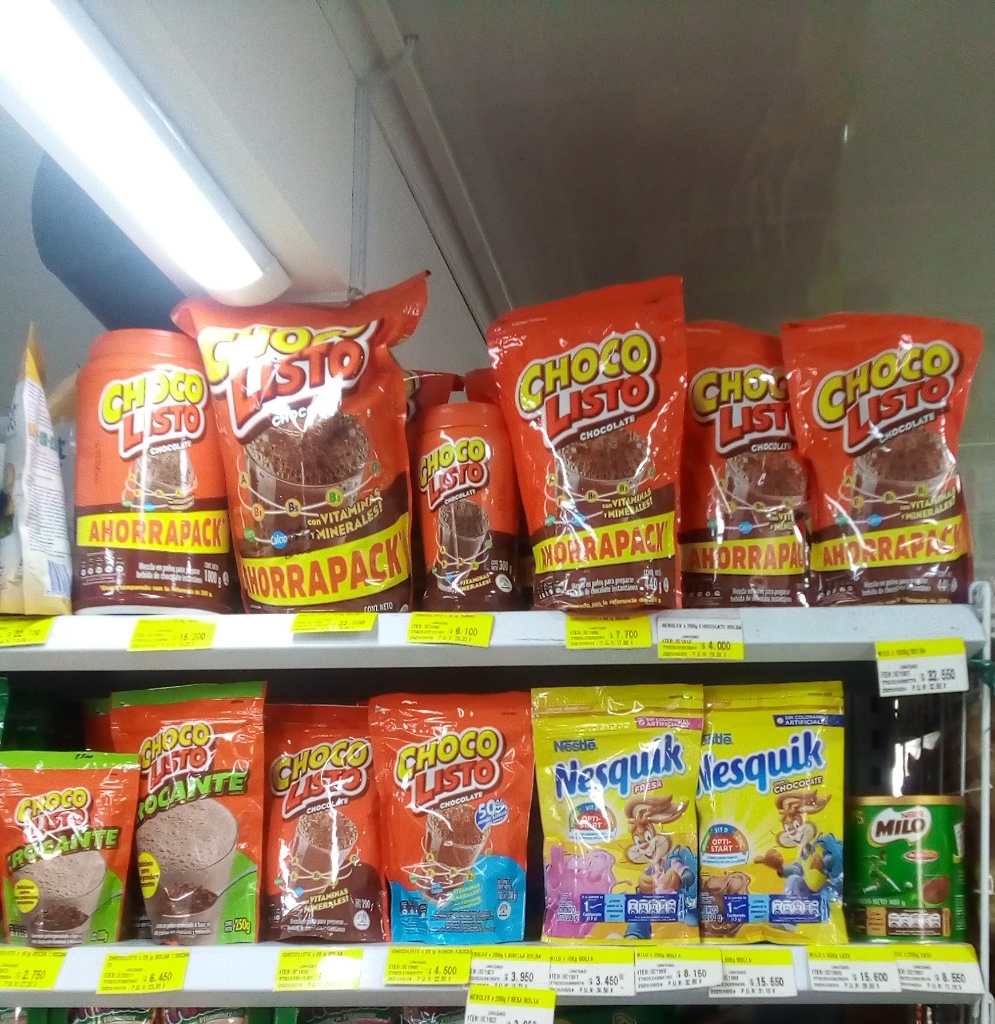COL0170102DYP10000: (0, 749, 142, 950)
COL0170102DYP25000: (109, 685, 269, 945)
COL0170103DYP1,500: (166, 267, 438, 611)
COL0170103DYP20000: (257, 700, 392, 944)
COL0170103DYP40000: (668, 308, 821, 609)
COL0170103DYP44000: (474, 265, 686, 612)
COL0170103TRR00100: (74, 322, 241, 591)
COL0170103TRR30000: (408, 398, 531, 611)
COL0170104DYP20000: (367, 693, 535, 946)
COL0170203LAT40000: (845, 795, 987, 942)
COL0170305DYP20000: (532, 684, 708, 947)
COL0170306DYP20000: (690, 683, 852, 948)
